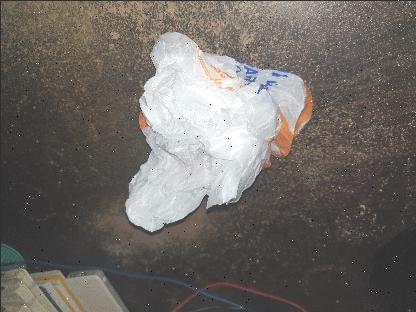Others: (117, 32, 318, 232)
